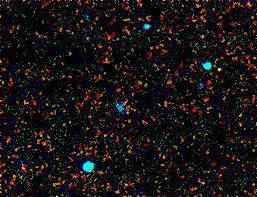star: (209, 54, 239, 84)
